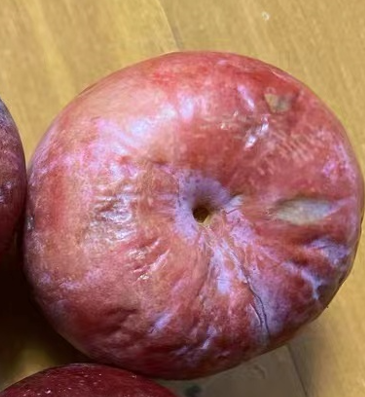plum_C: (21, 50, 365, 380)
